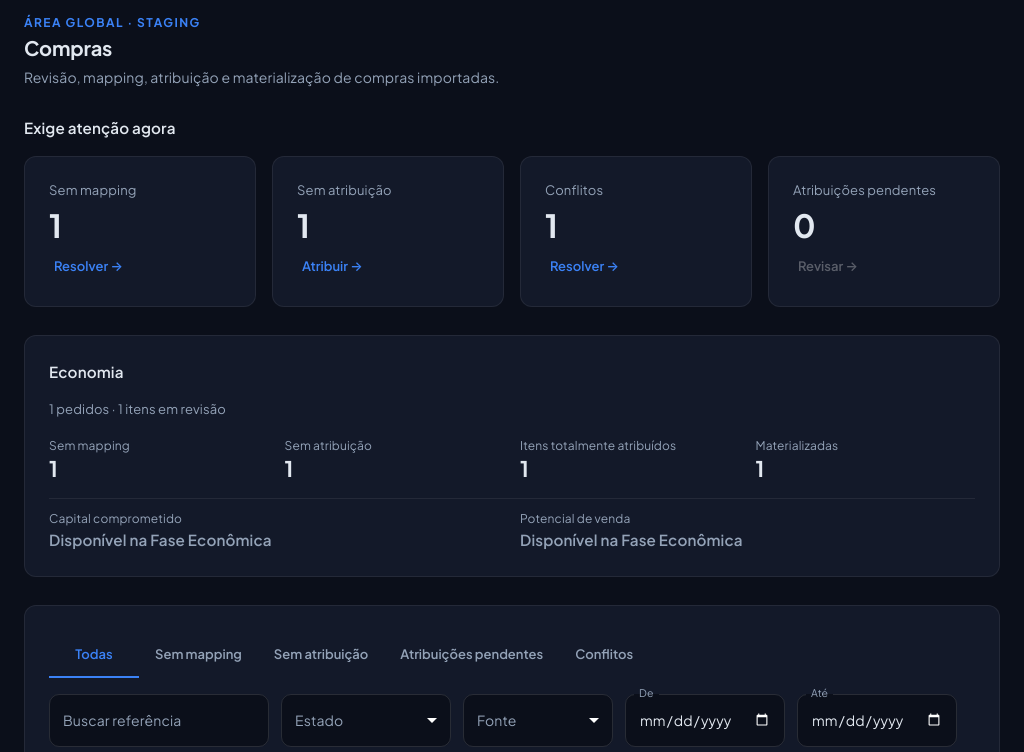
UX-1B — Fila de Compras (estrutural, somente leitura) › não apresenta compra já materializada como trabalho pendente
Click the tab "Atribuições pendentes": [472, 654] box [384,630,559,678]
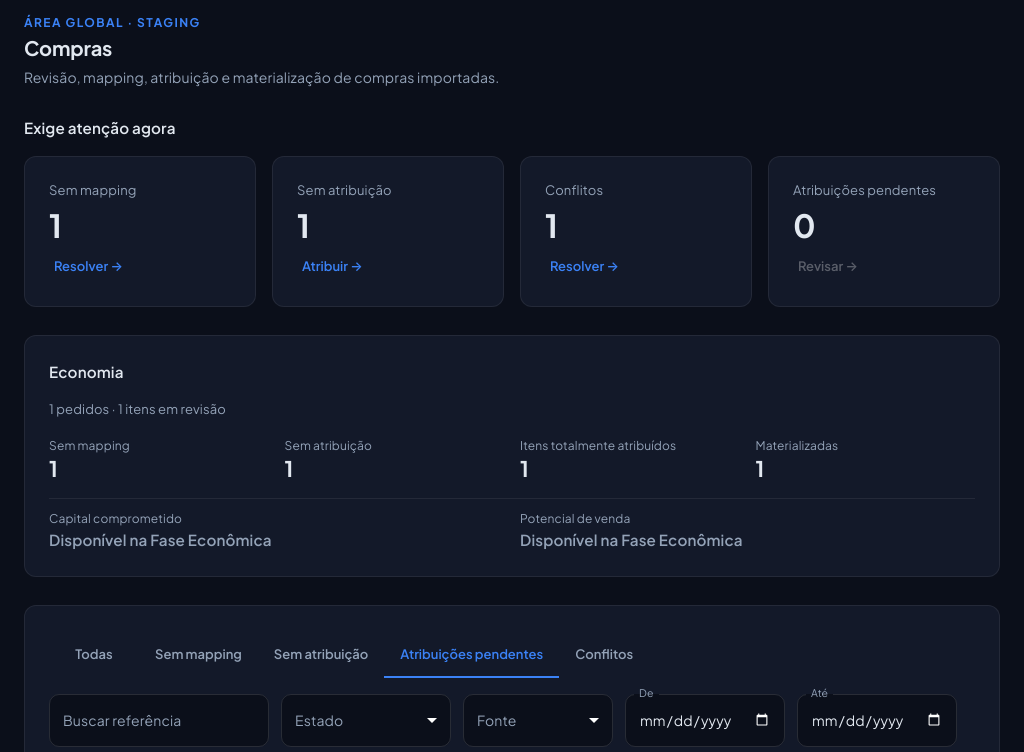
Click the tab "Todas": [94, 654] box [49,630,139,678]
(page scrolled)
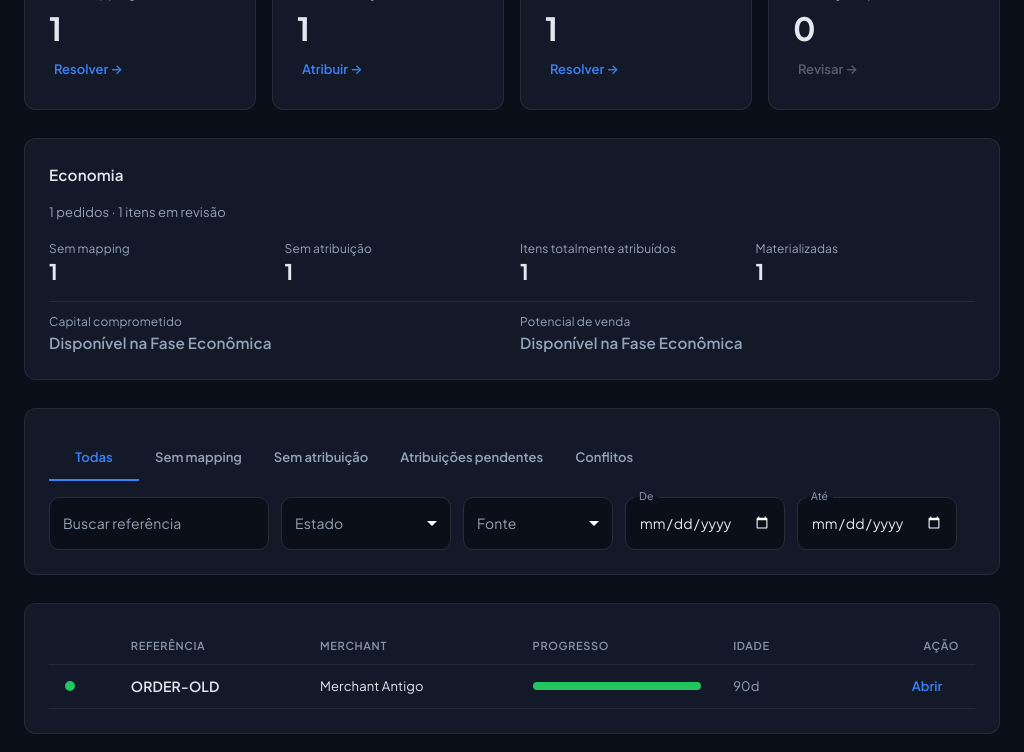
Click the button "Abrir": [927, 686] box [895,671,959,702]
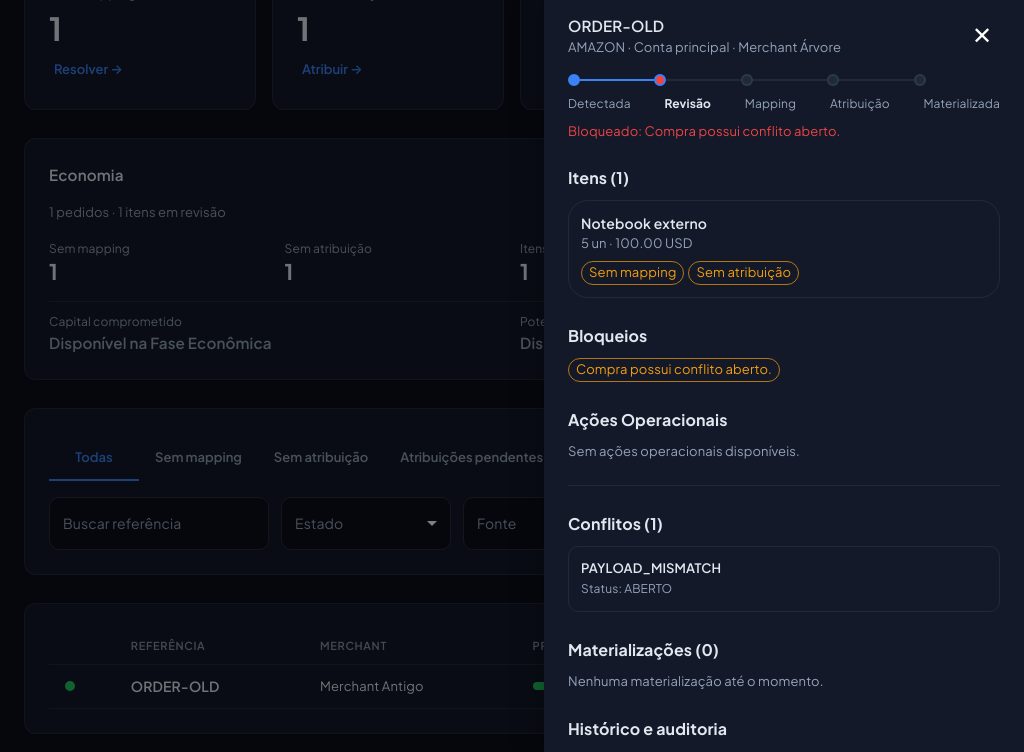
Expected: the heading "Itens (1)" is shown, [568,168,629,188]
